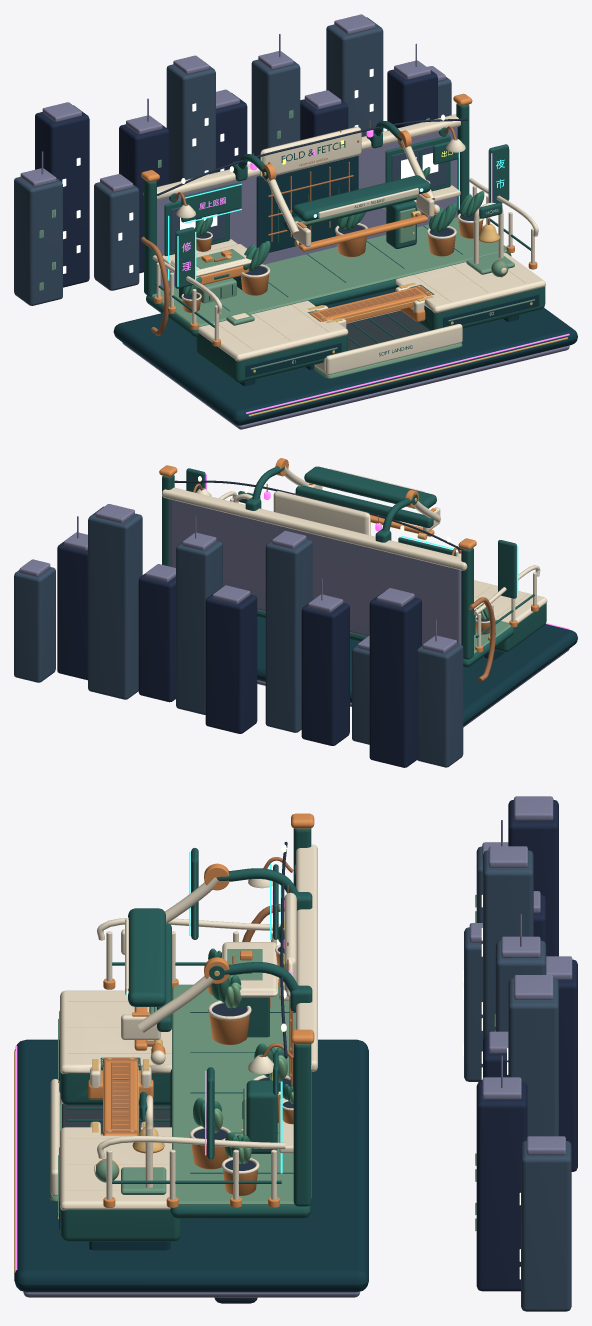
Rendered from 02-garden-assembled.glb.
The picture shows the model from 3 angles, top to bottom: view 1: azimuth 30°, elevation 25°; view 2: azimuth 150°, elevation 25°; view 3: azimuth 270°, elevation 25°; orthographic projection. The views are drawn at different scales.
Visible parts, largest first — view 1: distant_city_mesh, rooftop_base_mesh, workshop_frame_mesh, floor_left_mesh, floor_right_mesh, neon_signage_mesh, recovery_tray_mesh, upper_chute_mesh, planters_mesh, service_cables_mesh, roof_rails_mesh, repair_bench_mesh (+4 smaller); view 2: distant_city_mesh, workshop_frame_mesh, rooftop_base_mesh, upper_chute_mesh, floor_left_mesh, neon_signage_mesh, service_cables_mesh, roof_rails_mesh; view 3: rooftop_base_mesh, distant_city_mesh, workshop_frame_mesh, floor_right_mesh, upper_chute_mesh, floor_left_mesh, planters_mesh, roof_rails_mesh, neon_signage_mesh, service_cables_mesh, repair_bench_mesh, bridge_beam_mesh (+4 smaller).
Boxes of the visible parts, bbox=[...] form: distant_city_mesh: bbox=[14, 14, 451, 305]; rooftop_base_mesh: bbox=[113, 217, 577, 429]; workshop_frame_mesh: bbox=[141, 93, 472, 296]; floor_left_mesh: bbox=[196, 300, 348, 386]; floor_right_mesh: bbox=[394, 252, 545, 330]; neon_signage_mesh: bbox=[168, 121, 569, 413]; recovery_tray_mesh: bbox=[314, 310, 462, 378]; upper_chute_mesh: bbox=[262, 130, 434, 247]; planters_mesh: bbox=[181, 167, 484, 312]; service_cables_mesh: bbox=[141, 114, 467, 335]; roof_rails_mesh: bbox=[152, 178, 538, 346]; repair_bench_mesh: bbox=[170, 244, 251, 303]; distant_city_mesh: bbox=[14, 504, 463, 767]; workshop_frame_mesh: bbox=[159, 465, 476, 659]; rooftop_base_mesh: bbox=[257, 610, 577, 727]; upper_chute_mesh: bbox=[275, 458, 440, 531]; floor_left_mesh: bbox=[474, 580, 547, 659]; neon_signage_mesh: bbox=[186, 468, 569, 629]; service_cables_mesh: bbox=[174, 476, 495, 682]; roof_rails_mesh: bbox=[219, 491, 540, 652]; rooftop_base_mesh: bbox=[14, 984, 368, 1303]; distant_city_mesh: bbox=[462, 796, 577, 1311]; workshop_frame_mesh: bbox=[217, 813, 317, 1206]; floor_right_mesh: bbox=[58, 1127, 180, 1250]; upper_chute_mesh: bbox=[121, 863, 229, 1039]; floor_left_mesh: bbox=[58, 990, 171, 1105]; planters_mesh: bbox=[189, 926, 293, 1195]; roof_rails_mesh: bbox=[97, 918, 285, 1207]; neon_signage_mesh: bbox=[15, 848, 292, 1270]; service_cables_mesh: bbox=[241, 842, 287, 1153]; repair_bench_mesh: bbox=[222, 942, 277, 1037]; bridge_beam_mesh: bbox=[103, 1058, 138, 1135].
Bounding box in the file's own units: 11.31 × 5.6 × 8.91.
